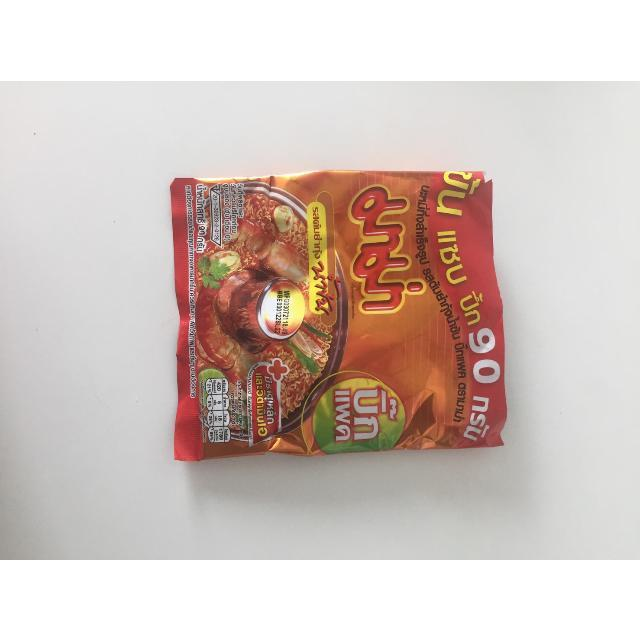Paquete de plastico: (172, 171, 503, 465)
